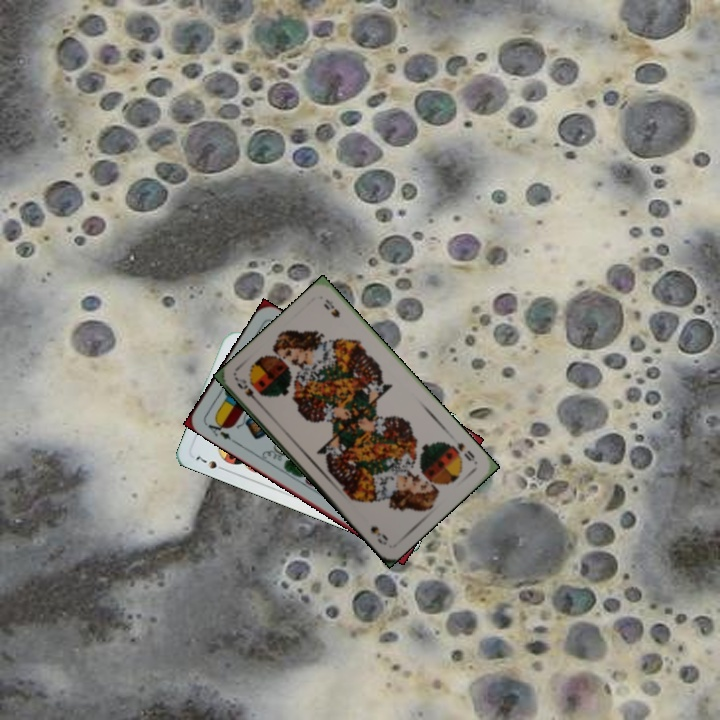EA: (202, 415, 238, 446)
S7: (192, 451, 229, 474)
SO: (232, 374, 264, 408), (448, 438, 479, 466)
